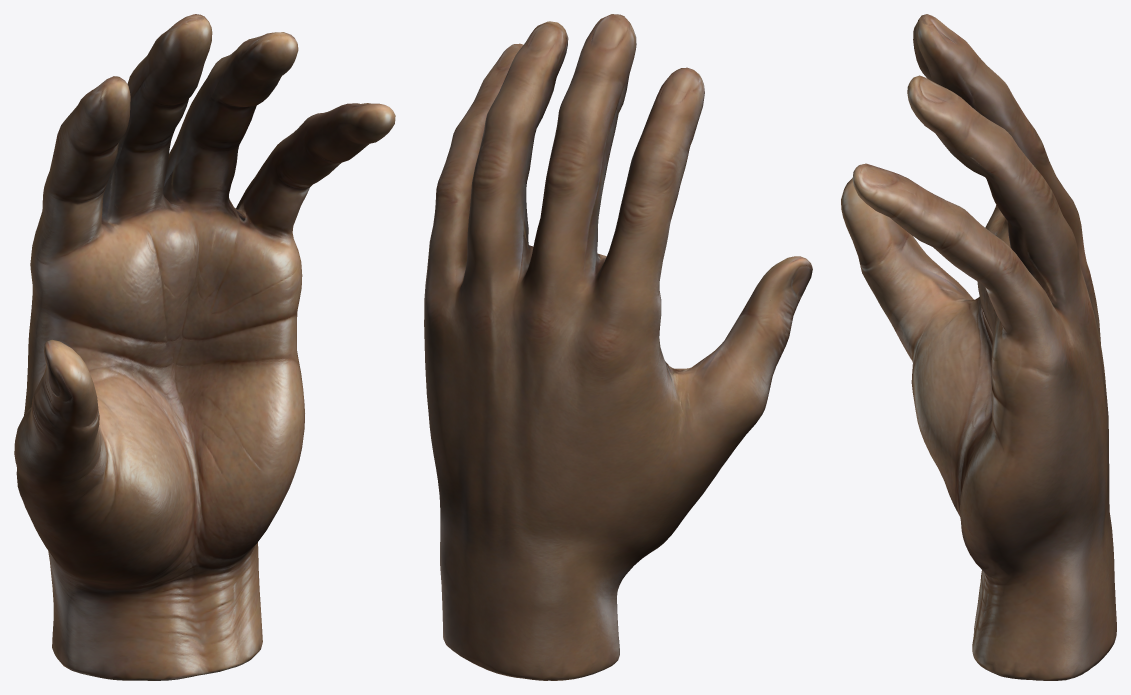
The model's file is Highly_Detailed_The__0313130510_texture.fbx.
3 renders of one model, left to right at view 1: azimuth 30°, elevation 25°; view 2: azimuth 150°, elevation 25°; view 3: azimuth 270°, elevation 25°, orthographic. The views are drawn at different scales.
Parts seen in each view (by area): view 1: Mesh1_Mesh1.078; view 2: Mesh1_Mesh1.078; view 3: Mesh1_Mesh1.078.
Part boxes in pixels (x1=…): Mesh1_Mesh1.078: x1=14, y1=14, x2=395, y2=680; Mesh1_Mesh1.078: x1=424, y1=14, x2=812, y2=680; Mesh1_Mesh1.078: x1=841, y1=14, x2=1116, y2=680.
Bounding box in the file's own units: 107 × 200 × 81.61.
1 material, 1 textured.
